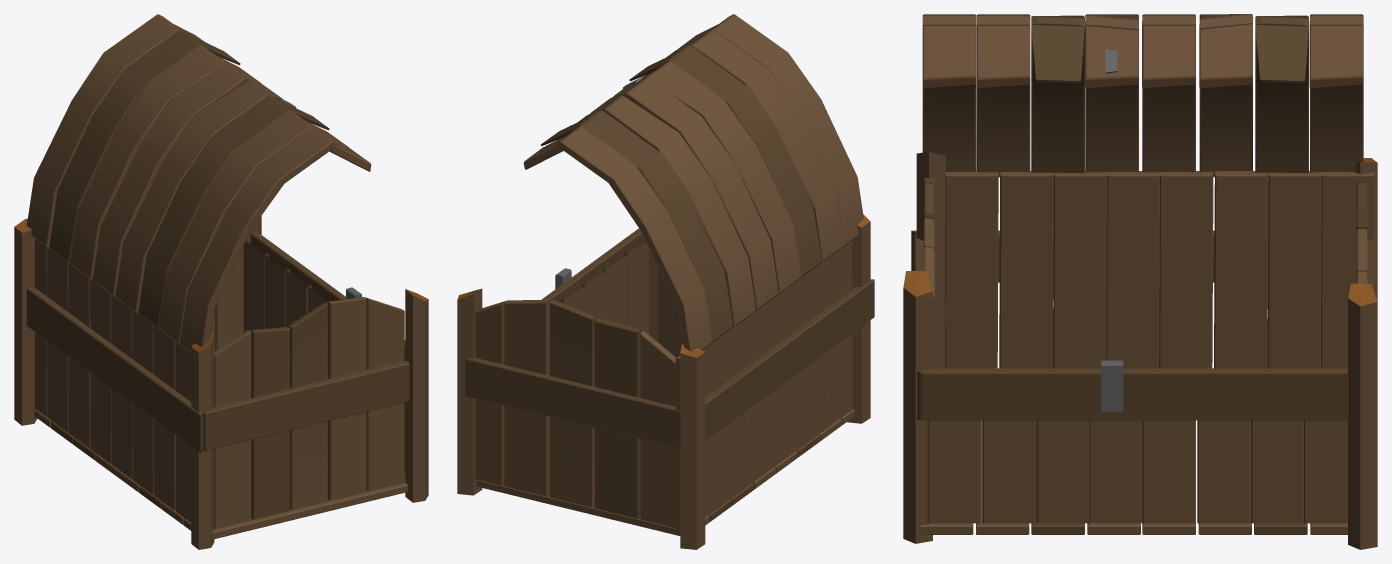
File: ChestOpen.fbx
The picture shows the model from 3 angles, left to right: view 1: azimuth 30°, elevation 25°; view 2: azimuth 150°, elevation 25°; view 3: azimuth 270°, elevation 25°; orthographic projection. The views are drawn at different scales.
Parts seen in each view (by area): view 1: polySurface342; view 2: polySurface342; view 3: polySurface342.
Part boxes in pixels (bbox=[...]): polySurface342: bbox=[14, 14, 428, 549]; polySurface342: bbox=[457, 14, 874, 549]; polySurface342: bbox=[903, 14, 1377, 549].
Bounding box in the file's own units: 84.23 × 124 × 113.
Materials: 1 (1 with a texture image).
